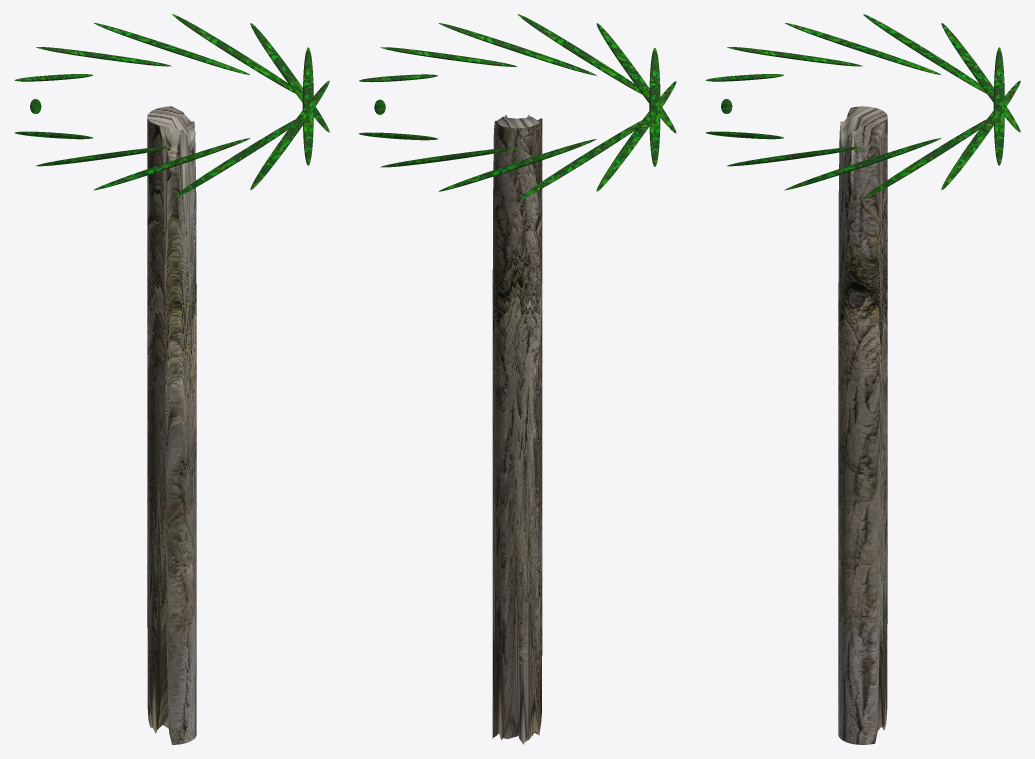
The model's file is tree_palmDetailedTall.glb.
3 renders of one model, left to right at view 1: azimuth 30°, elevation 25°; view 2: azimuth 150°, elevation 25°; view 3: azimuth 270°, elevation 25°, orthographic.
Parts seen in each view (by area): view 1: Cylinder, Cube.009, Cube.010, Cube.011, Cube.001, Cube.008, Cube, Cube.002, Cube.007, Cube.003; view 2: Cylinder, Cube.005, Cube.006, Cube.007, Cube.009, Cube.008, Cube.010, Cube.004, Cube.003, Cube.011; view 3: Cylinder, Cube.001, Cube.002, Cube.003, Cube.005, Cube, Cube.004, Cube.006, Cube.011, Cube.007.
Boxes of the visible parts, x1,y1,x2,y2 form: Cylinder: [147, 106, 196, 744]; Cube.009: [172, 114, 307, 198]; Cube.010: [250, 80, 329, 189]; Cube.011: [302, 47, 313, 165]; Cube.001: [172, 14, 295, 93]; Cube.008: [93, 138, 250, 190]; Cube: [250, 23, 329, 132]; Cube.002: [94, 23, 249, 74]; Cube.007: [36, 146, 171, 166]; Cube.003: [36, 47, 171, 66]; Cylinder: [492, 114, 542, 744]; Cube.005: [517, 114, 654, 200]; Cube.006: [596, 81, 676, 191]; Cube.007: [649, 48, 660, 166]; Cube.009: [517, 14, 642, 94]; Cube.008: [596, 23, 676, 133]; Cube.010: [438, 23, 596, 75]; Cube.004: [438, 139, 596, 191]; Cube.003: [380, 147, 517, 167]; Cube.011: [380, 47, 516, 66]; Cylinder: [838, 106, 887, 744]; Cube.001: [863, 114, 998, 198]; Cube.002: [941, 80, 1020, 189]; Cube.003: [993, 47, 1004, 165]; Cube.005: [863, 14, 986, 93]; Cube: [784, 138, 941, 190]; Cube.004: [941, 23, 1020, 132]; Cube.006: [785, 23, 940, 74]; Cube.011: [727, 146, 862, 166]; Cube.007: [727, 47, 862, 66].
Bounding box in the file's own units: 2.78 × 6.35 × 2.78.
Materials: 2 (2 with a texture image).
